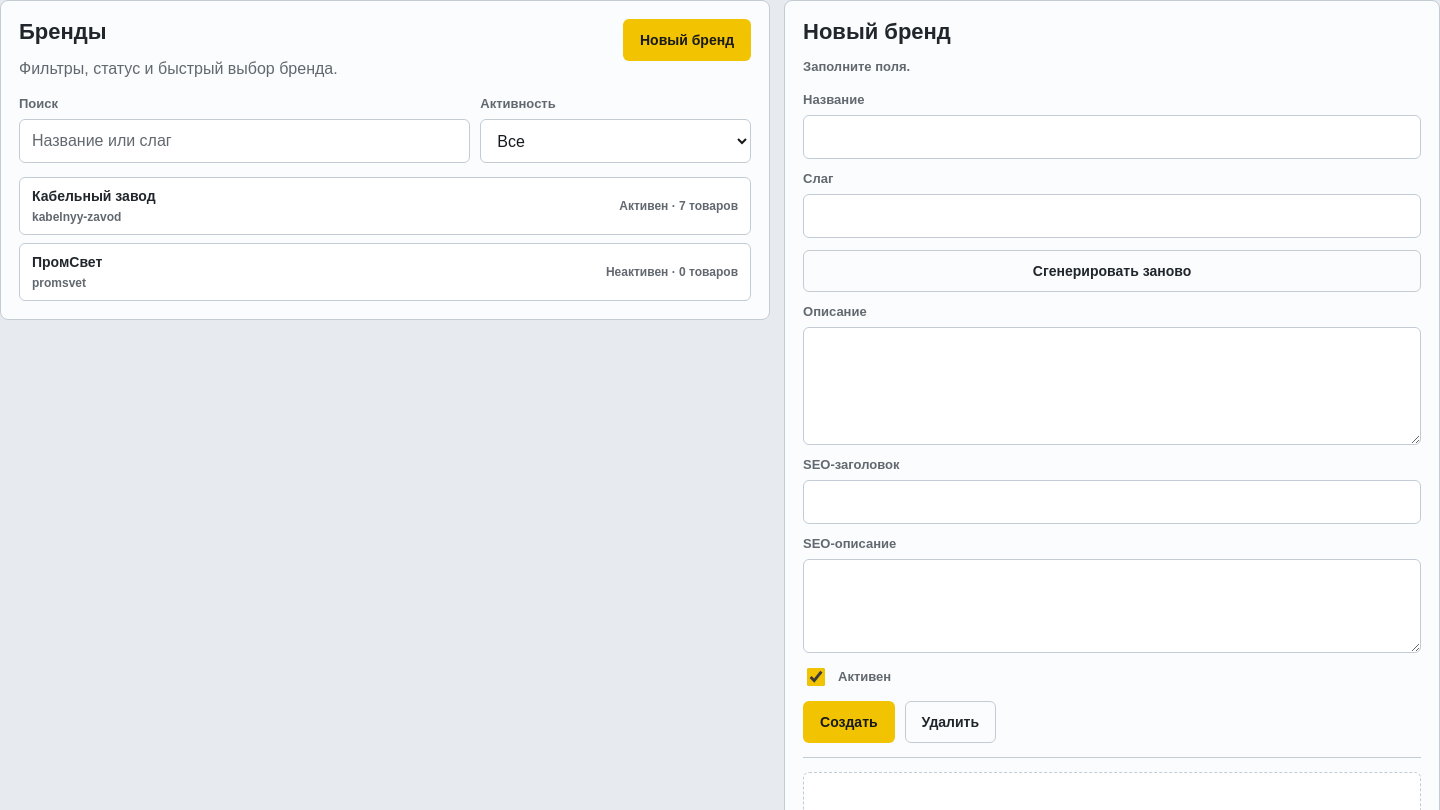
Test: AdminBrandManager › загружает выбранный бренд в редактор
The image size is (1440, 810).
Check: the button "Кабельный завод kabelnyy-zavod Активен · 7 товаров" is shown, box 19,177 -> 751,235
Click the button "ПромСвет promsvet Неактивен · 0 товаров": point(67, 262) 19,243 -> 751,301
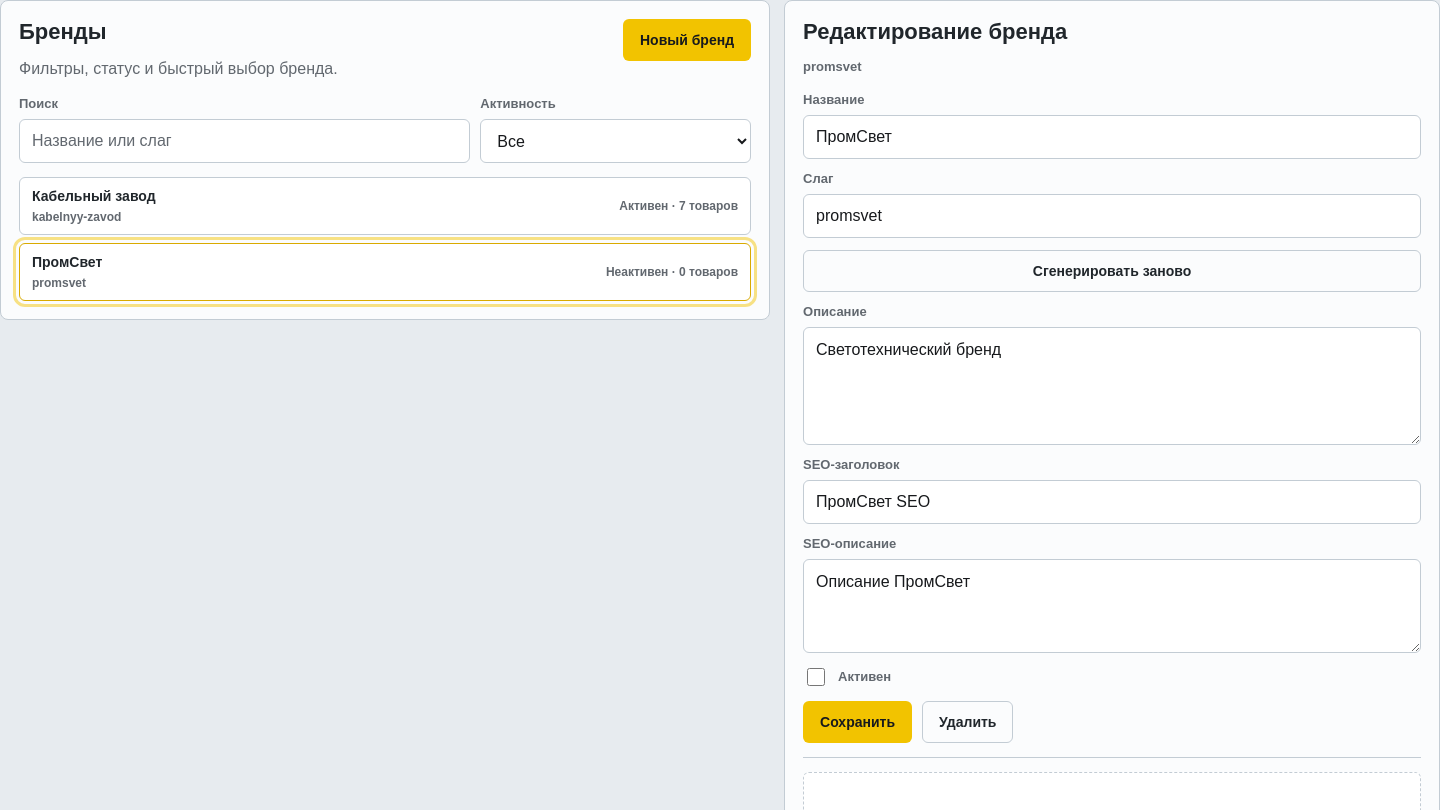
Check: the field showing "ПромСвет" is shown, box 803,114 -> 1421,158
Check: the field showing "promsvet" is shown, box 803,194 -> 1421,238
Check: the text box showing "Светотехнический бренд" is shown, box 803,326 -> 1421,444
